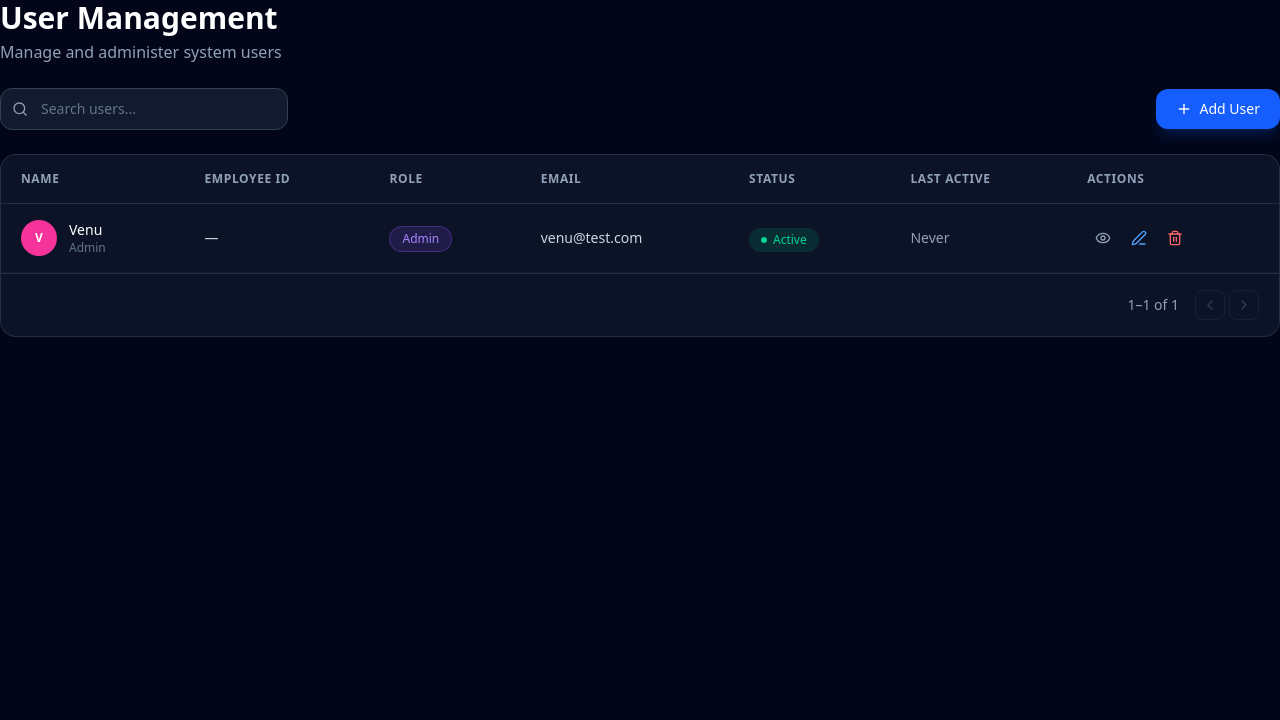
UserManagement Tests › should open user details modal
The width and height of the screenshot is (1280, 720).
Click the button titled "View": {"x": 1103, "y": 238} x1=1087 y1=222 x2=1119 y2=254
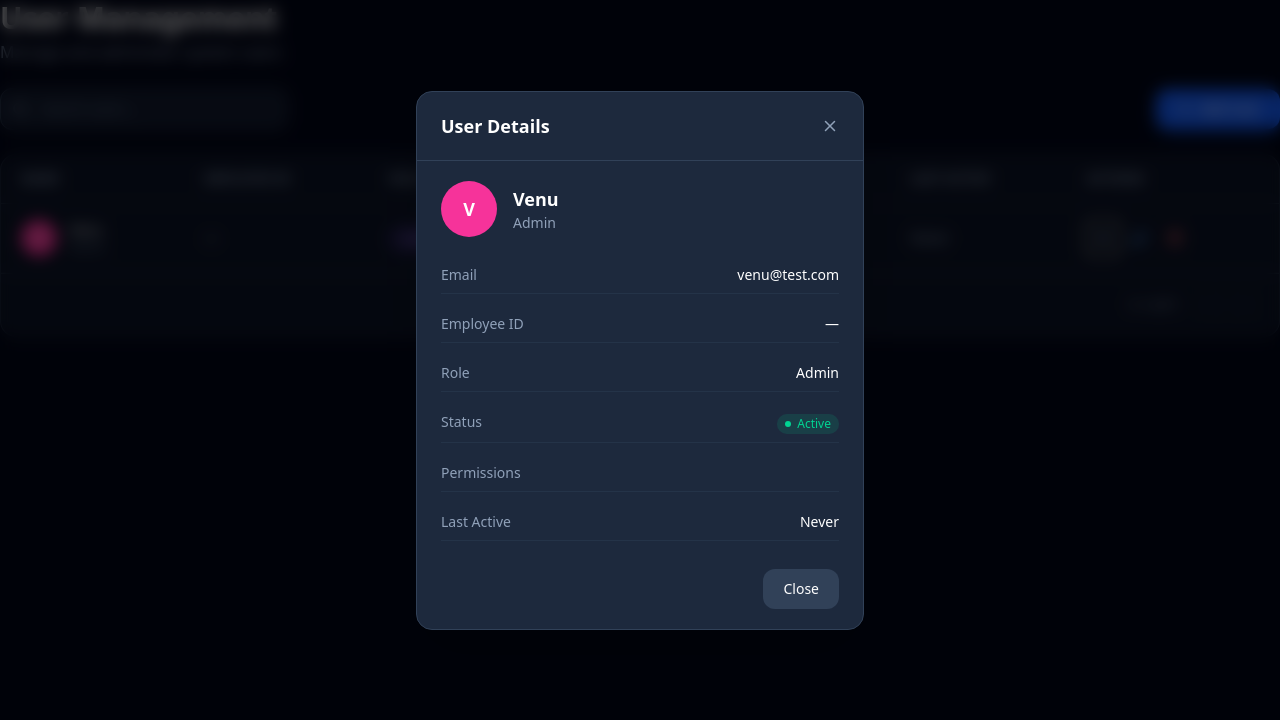
Expected: the heading "User Details" is shown, x1=441 y1=112 x2=550 y2=140
